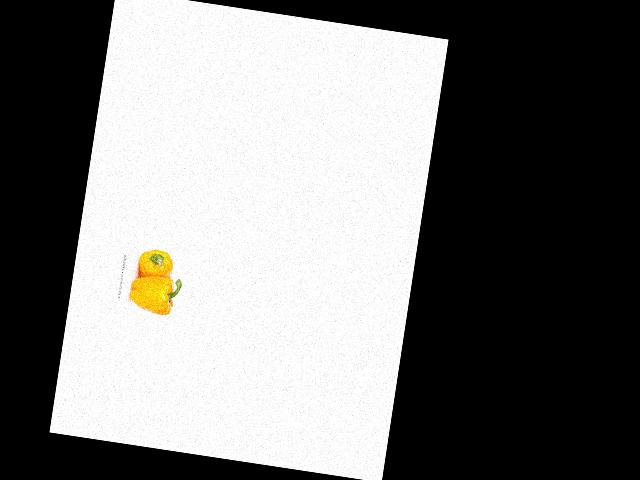bell_pepper: (134, 246, 177, 283)
